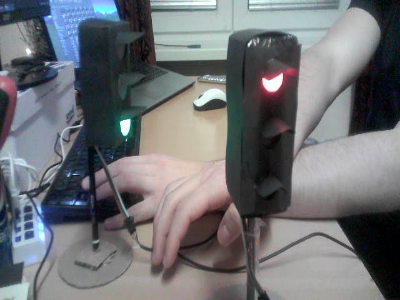trafficlight_green: (107, 25, 135, 141)
trafficlight_red: (251, 42, 294, 206)
